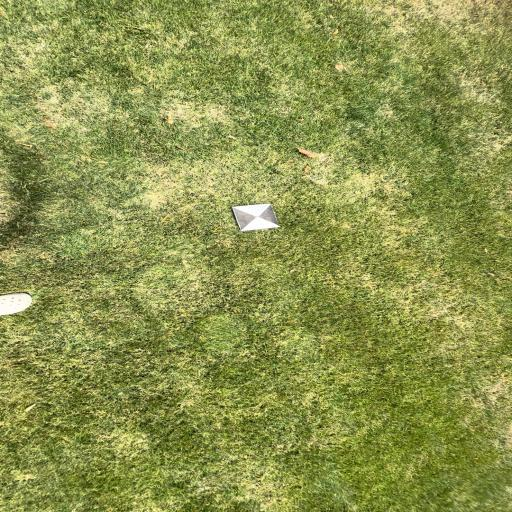target: (234, 204, 281, 231)
